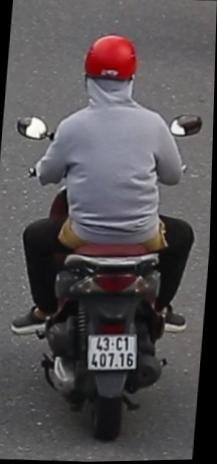LP: (80, 323, 145, 383)
helmet: (78, 30, 140, 97)
